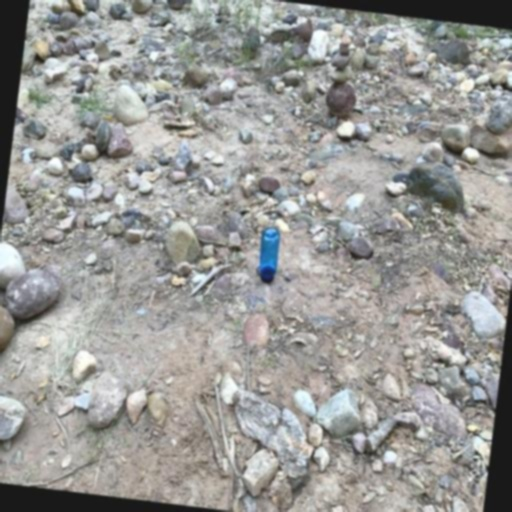bottle: (254, 226, 281, 284)
